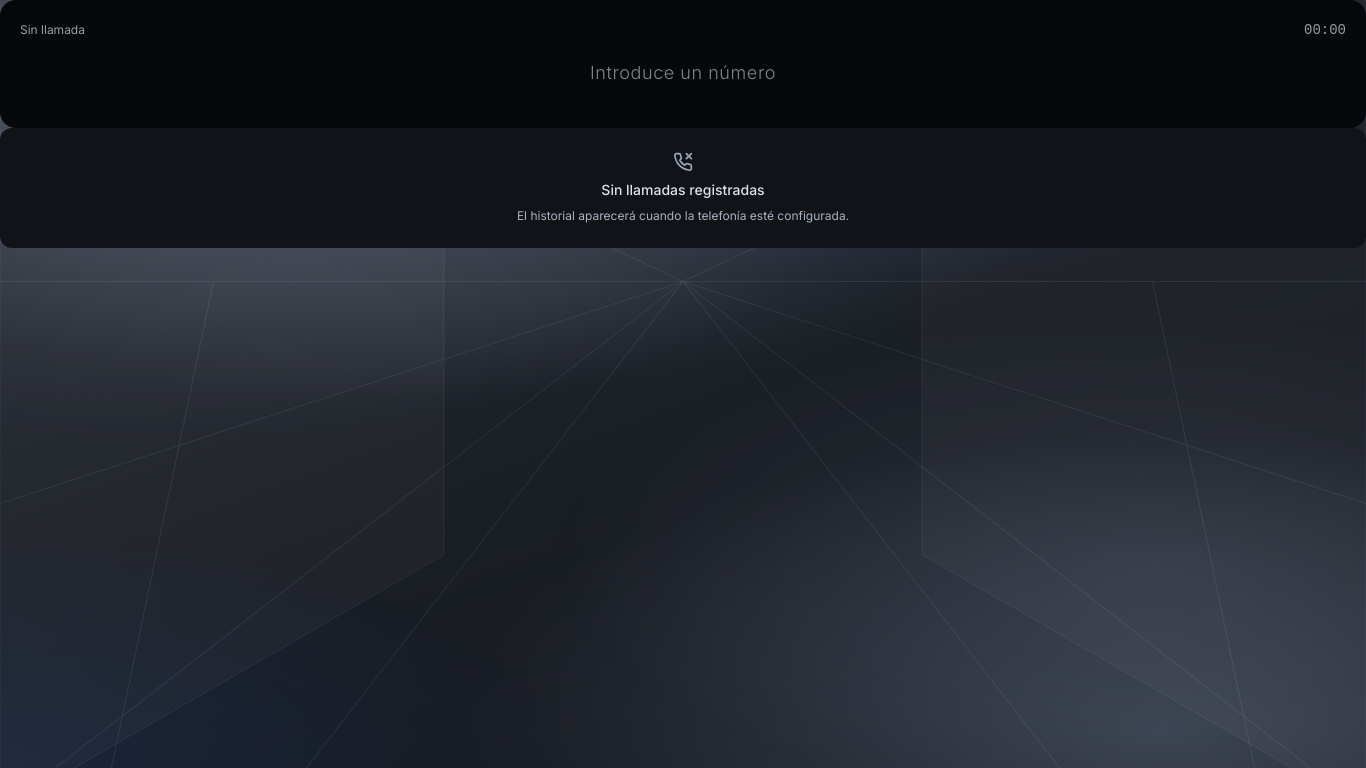
Test: an agent can type straight on the phone screen
Click the field named "Número marcado" at [683, 70], box [20,52,1346,88]
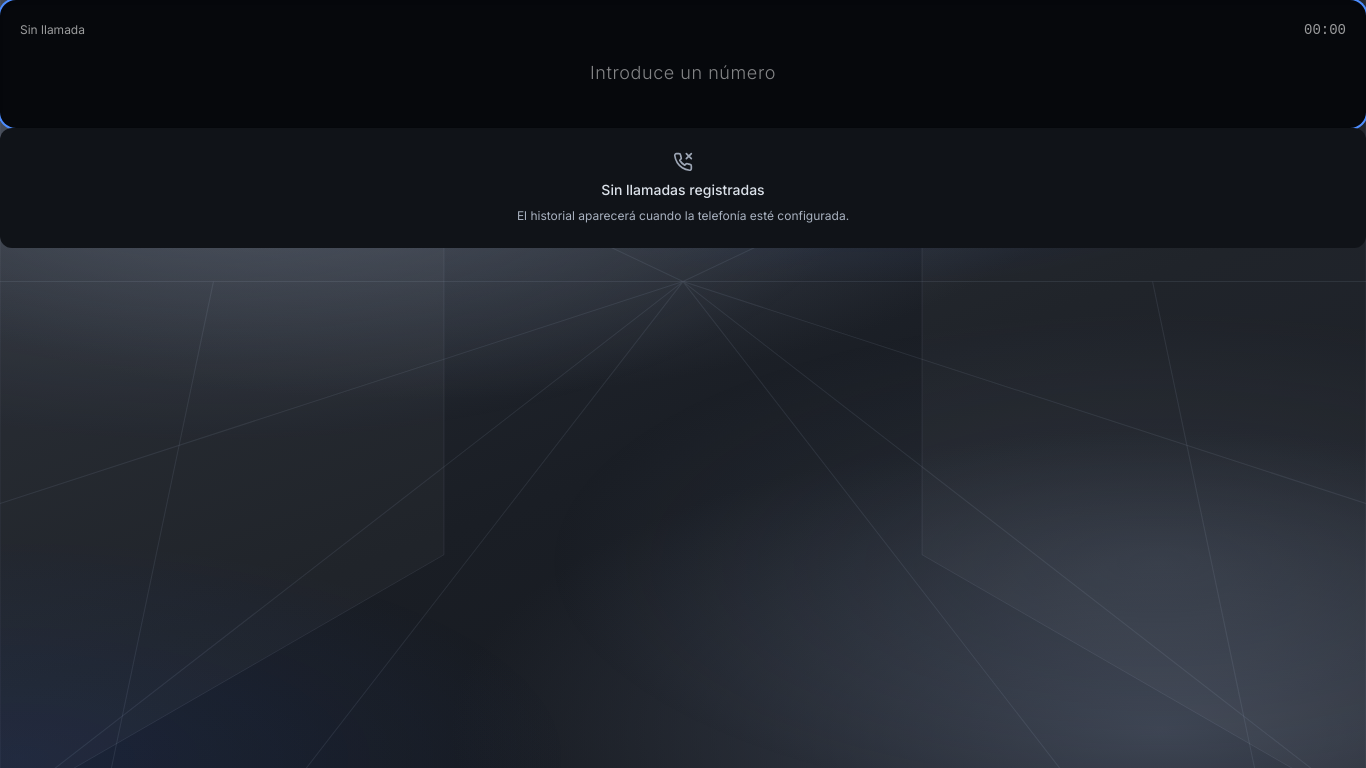
Type keys "71301928"
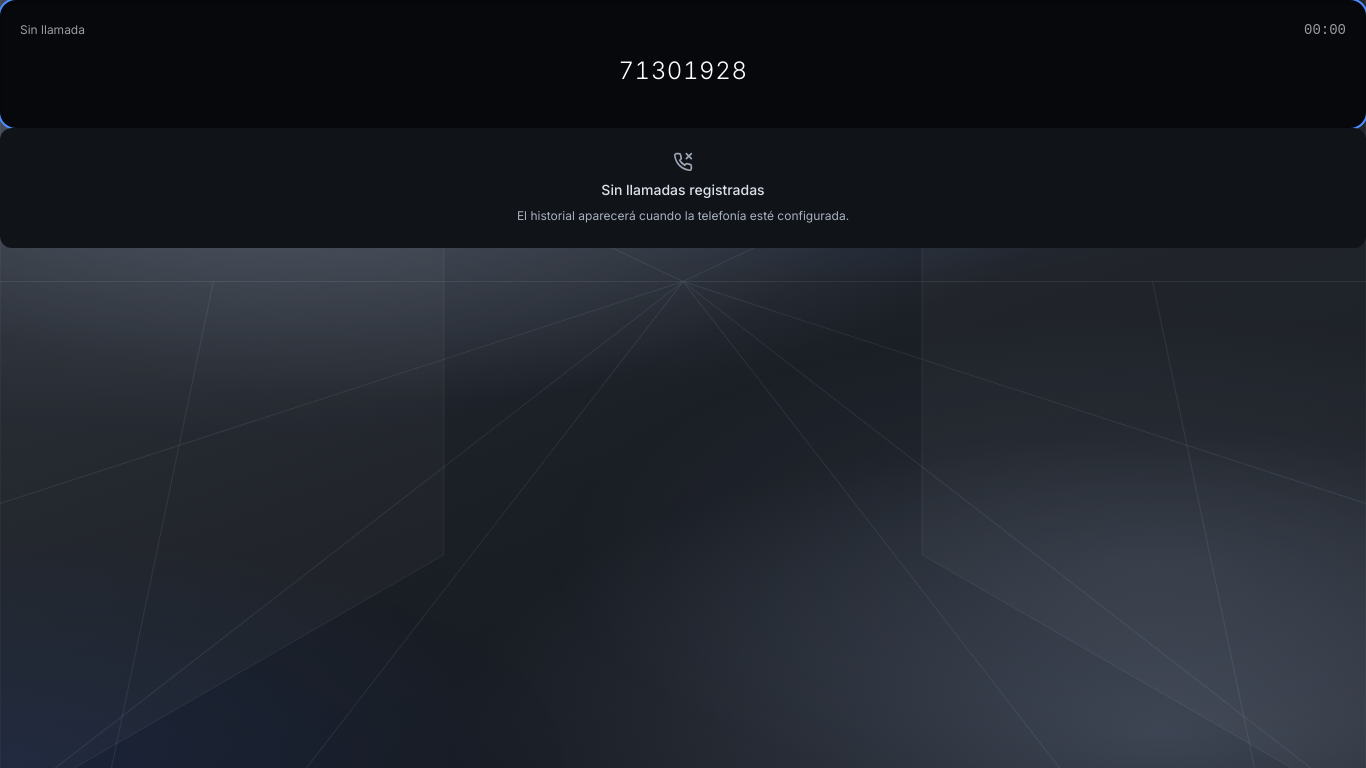
Check: the field named "Número marcado" holds "71301928", box [20,52,1346,88]
